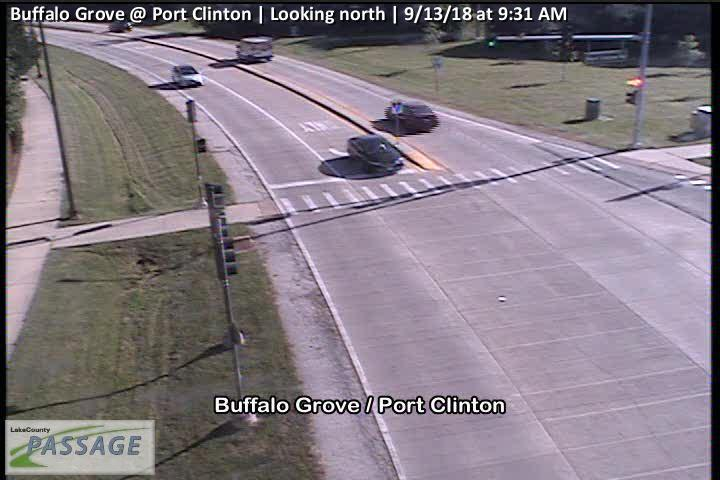Sedan: (347, 134, 403, 174), (383, 99, 438, 133), (172, 64, 203, 86), (108, 20, 132, 32)
Truck: (235, 35, 273, 63)
